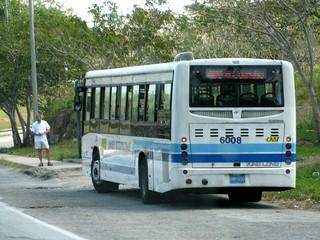bus: (75, 63, 298, 194)
